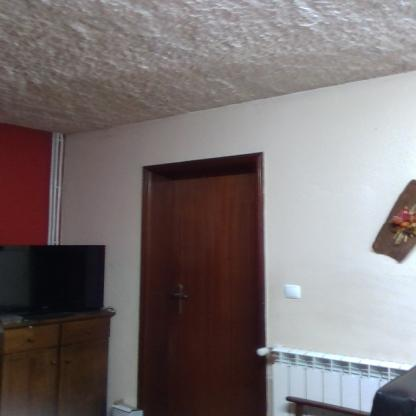closed: (130, 145, 282, 403)
